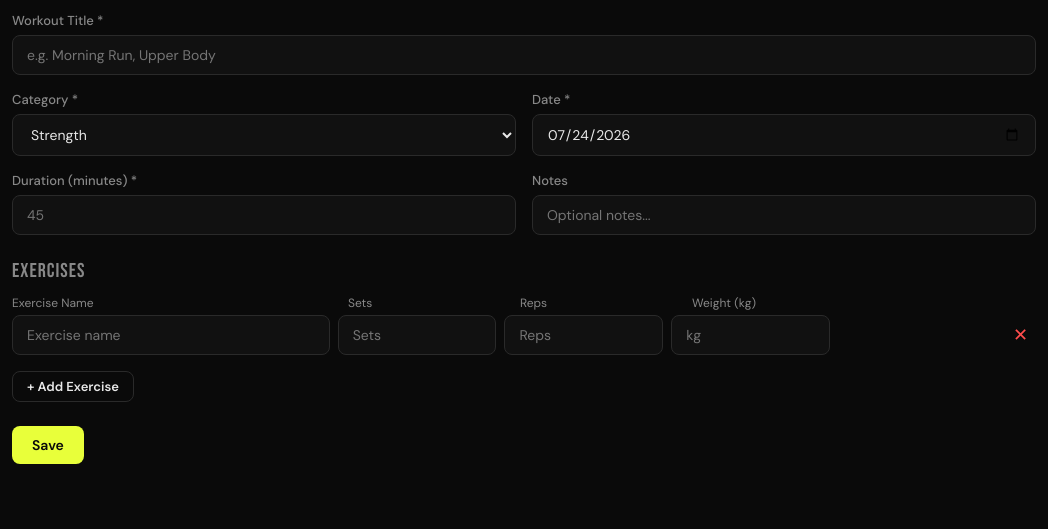
Test case: WorkoutForm › "+ Add Exercise" adds another exercise row
Expected: the number of fields with placeholder "Exercise name" is 1, [12,315,330,355]
Click the button "+ Add Exercise" at [73, 386], box [12,371,134,402]
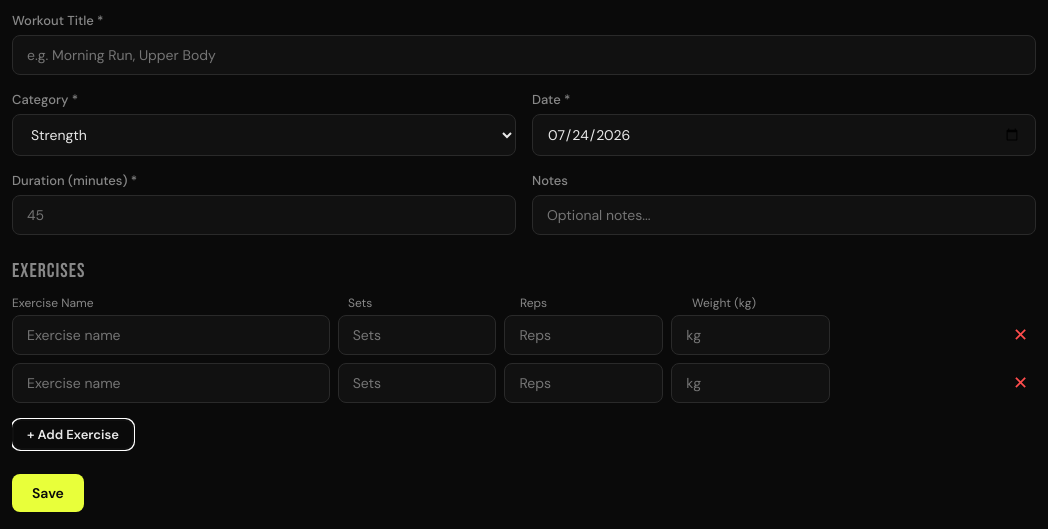
Now the number of fields with placeholder "Exercise name" is 2, box [12,315,330,355]; [12,363,330,403]
